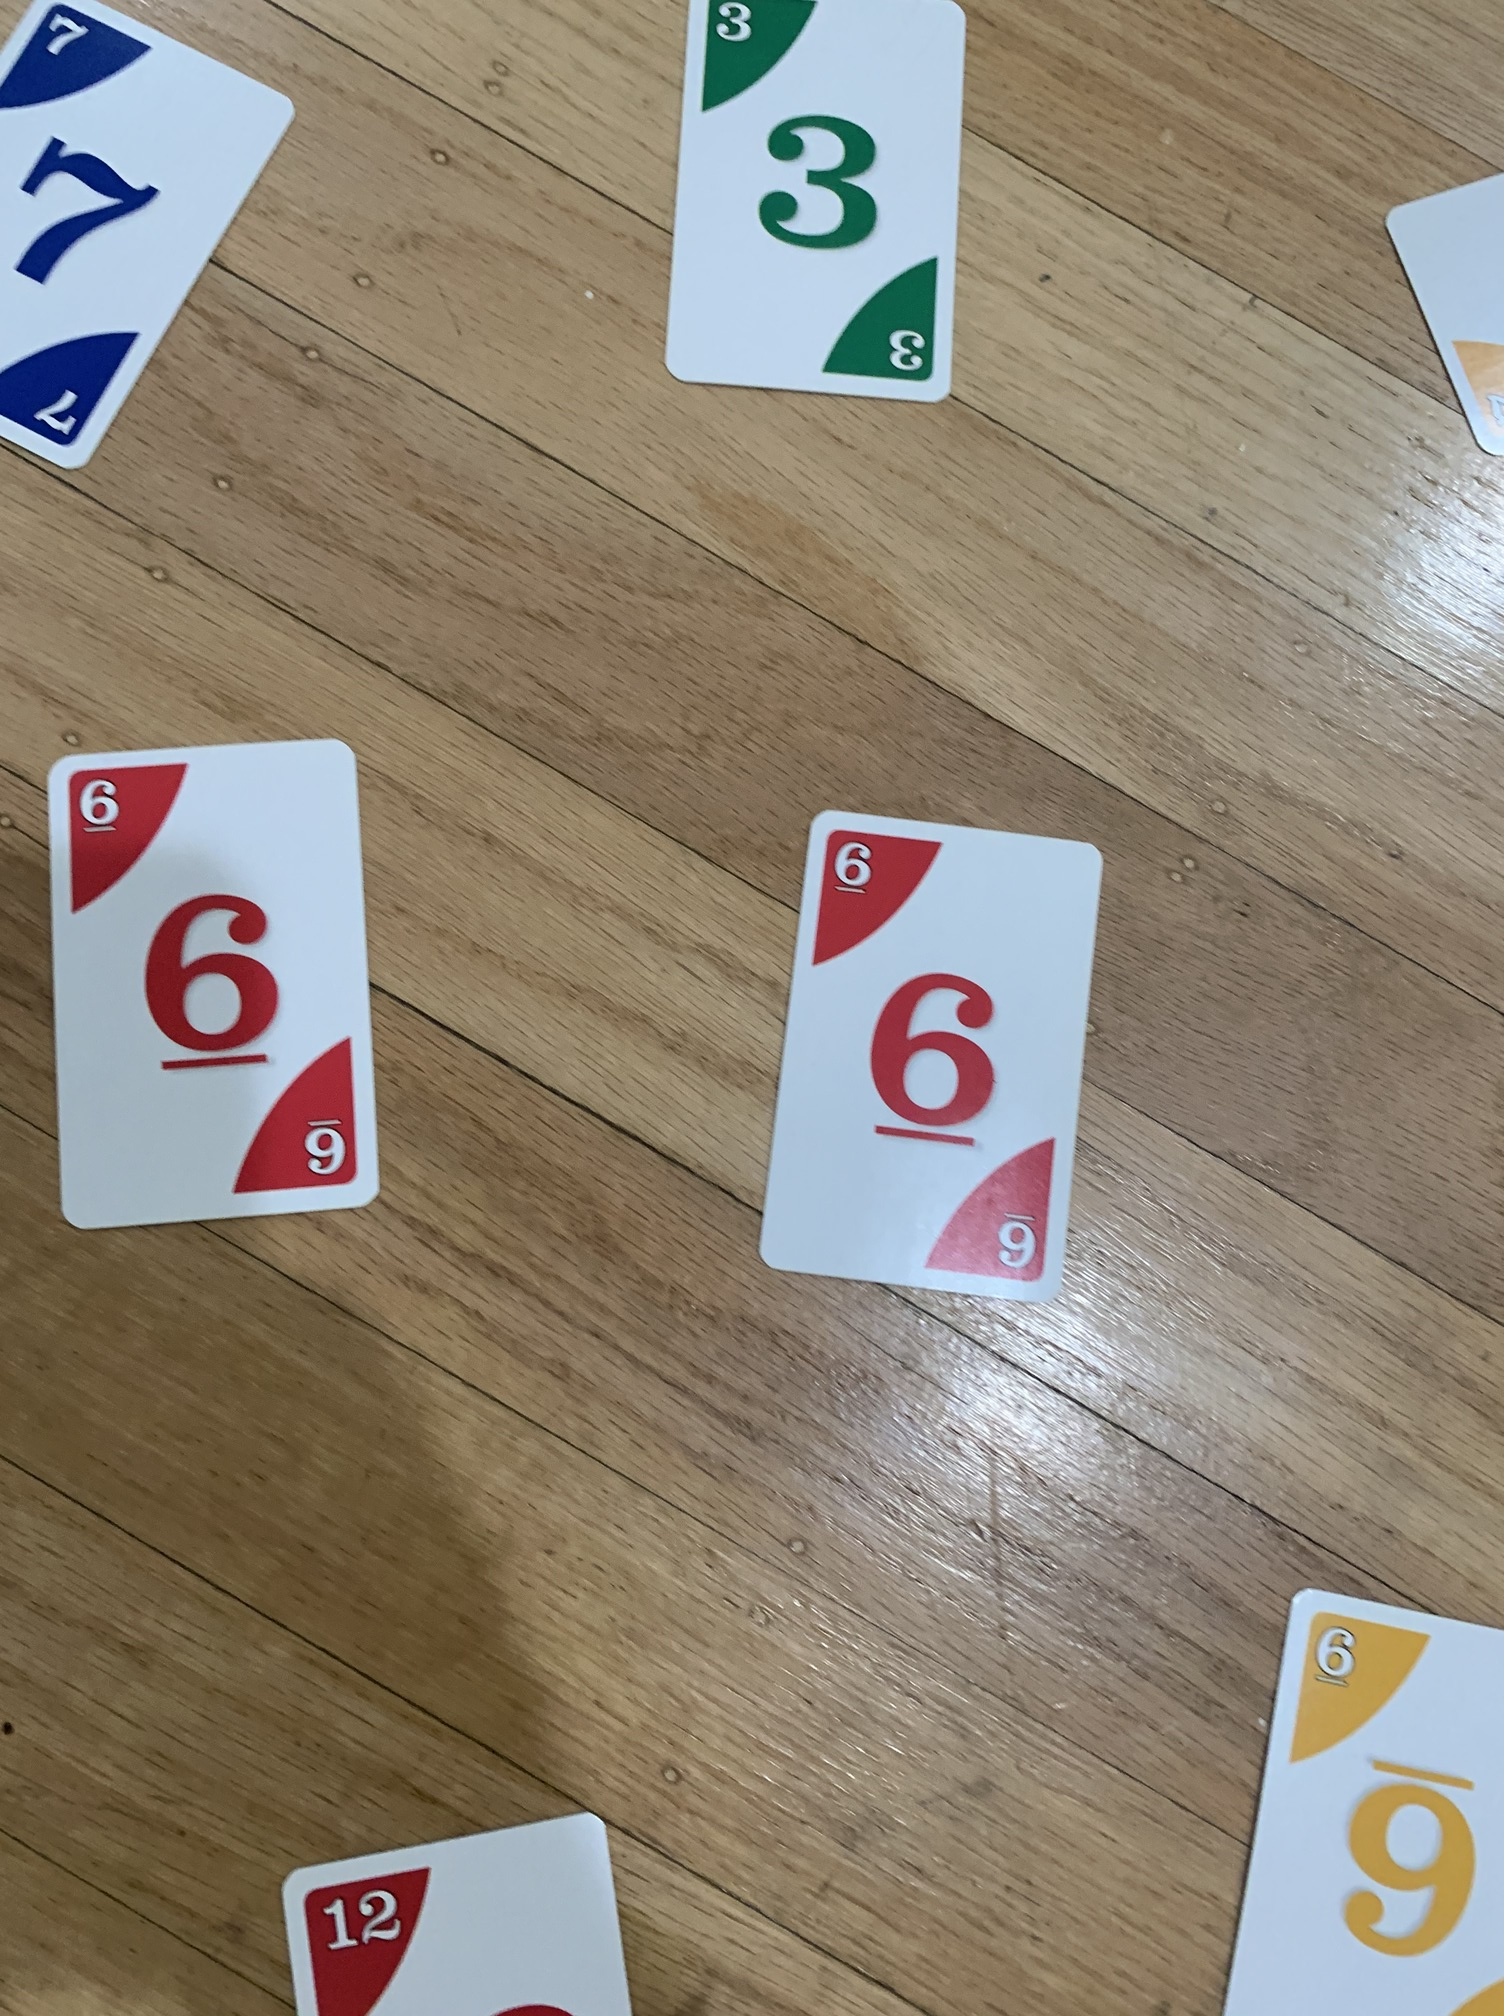seven: (3, 2, 306, 472)
six: (749, 798, 1114, 1310), (36, 732, 385, 1239)
three: (629, 2, 1013, 420)
